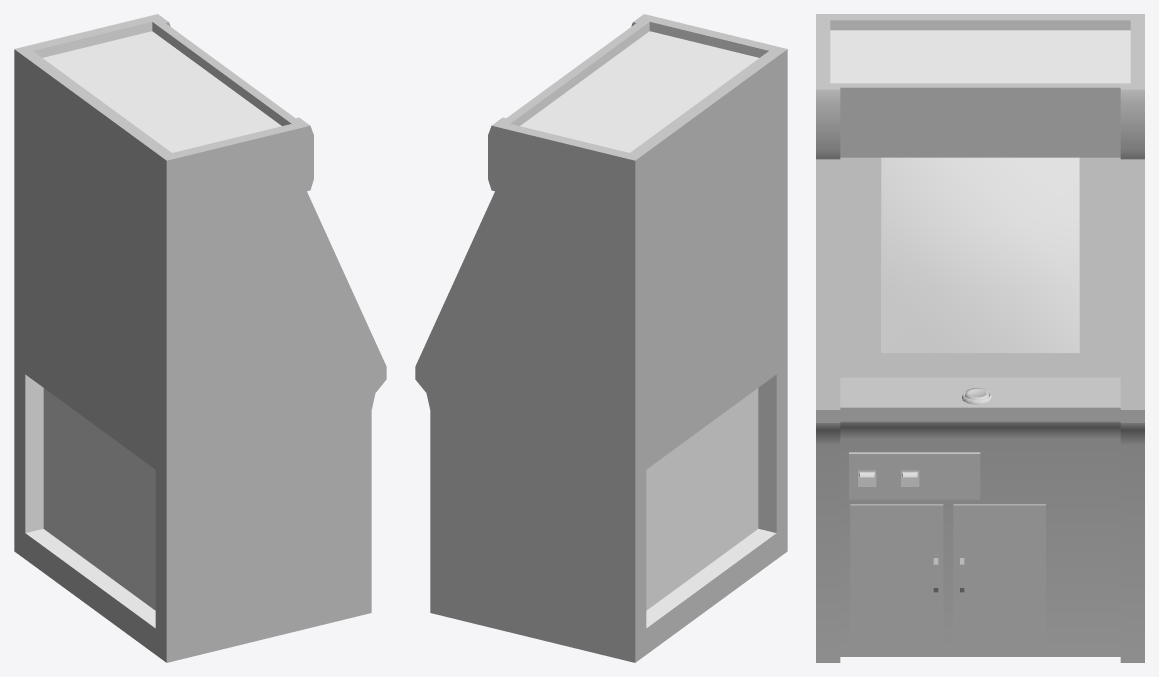
Rendered from Arcade Shmups.glb.
3 views of the same model, side by side, from view 1: azimuth 30°, elevation 25°; view 2: azimuth 150°, elevation 25°; view 3: azimuth 270°, elevation 25° (orthographic). The views are drawn at different scales.
Parts seen in each view (by area): view 1: Cube.030; view 2: Cube.030; view 3: Cube.030.
Part boxes in pixels (x1,y1,x2,y2): Cube.030: (14,14,386,662); Cube.030: (415,14,787,662); Cube.030: (816,14,1144,662).
Size of the model in its own units: 0.7077 by 1.54 by 0.8498.
4 materials, 1 textured.
